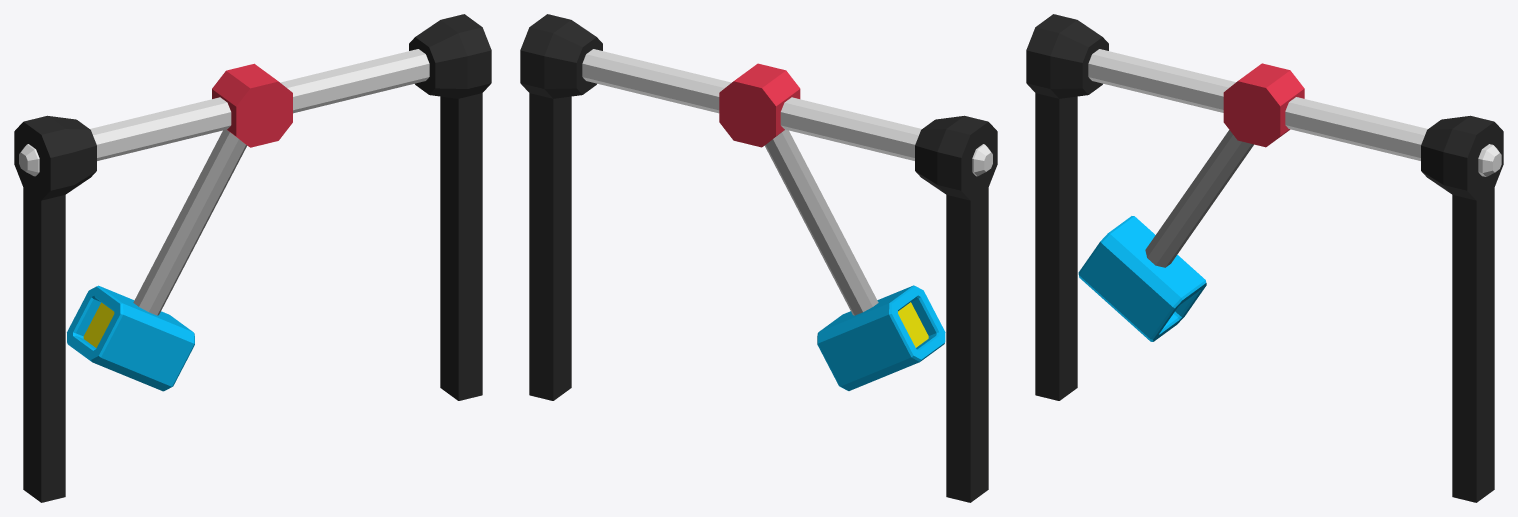
3 renders of one model, left to right at view 1: azimuth 30°, elevation 25°; view 2: azimuth 150°, elevation 25°; view 3: azimuth 330°, elevation 25°, orthographic.
Parts seen in each view (by area): view 1: pCub, polySurface233; view 2: pCub, polySurface233; view 3: pCub, polySurface233.
Boxes of the visible parts, x1,y1,x2,y2 form: pCub: [14, 14, 491, 502]; polySurface233: [67, 129, 247, 391]; pCub: [520, 14, 997, 502]; polySurface233: [764, 129, 945, 390]; pCub: [1026, 14, 1503, 502]; polySurface233: [1078, 130, 1253, 341].
Size of the model in its own units: 631 by 481 by 85.83.
